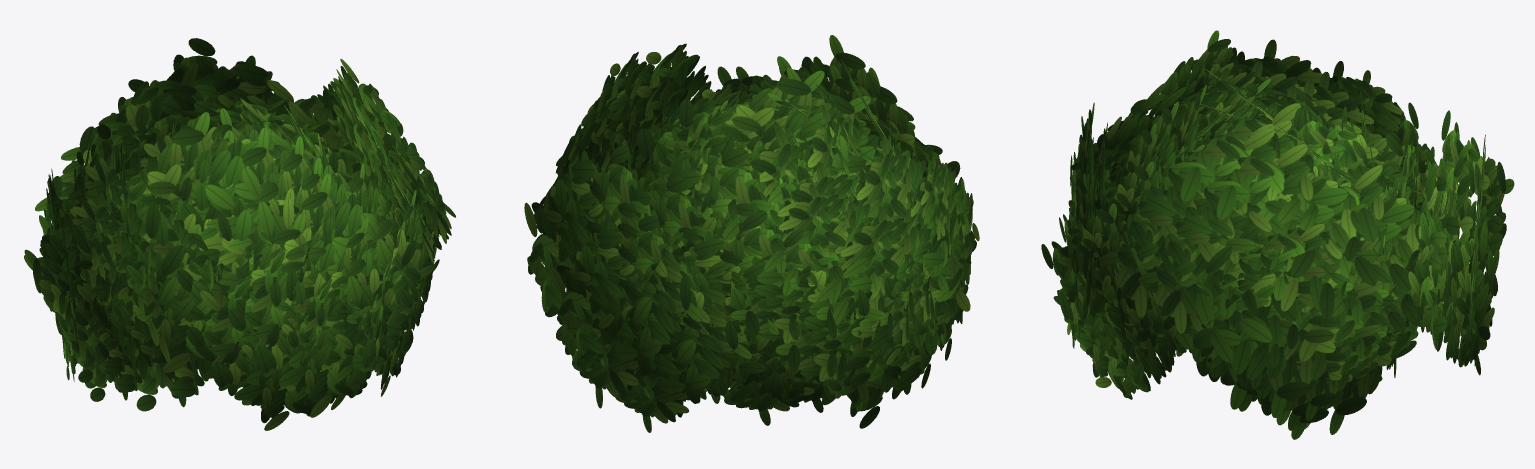
File: bush.glb
3 views of the same model, side by side, from view 1: azimuth 30°, elevation 25°; view 2: azimuth 150°, elevation 25°; view 3: azimuth 270°, elevation 25° (orthographic). The views are drawn at different scales.
Visible parts, largest first — view 1: bush; view 2: bush; view 3: bush.
Boxes of the visible parts, x1,y1,x2,y2 form: bush: [24, 38, 455, 430]; bush: [524, 35, 979, 432]; bush: [1041, 30, 1514, 439].
Bounding box in the file's own units: 1.71 × 1.45 × 1.8.
Materials: 1 (1 with a texture image).
